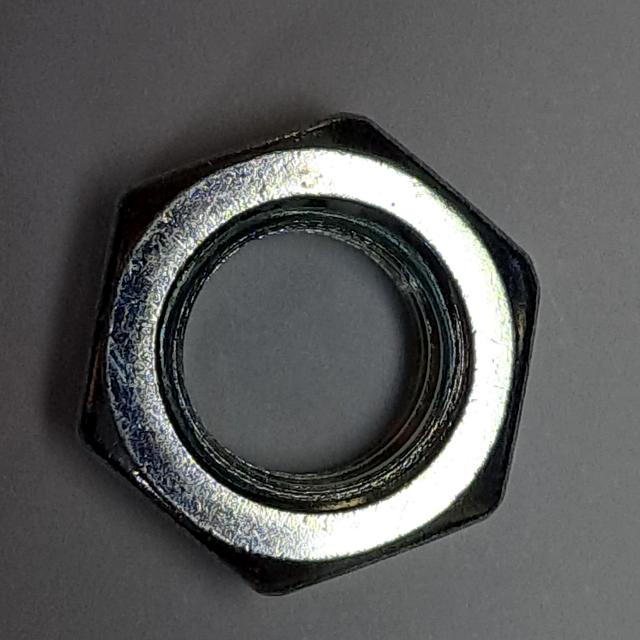Excellent: (65, 92, 558, 617)
